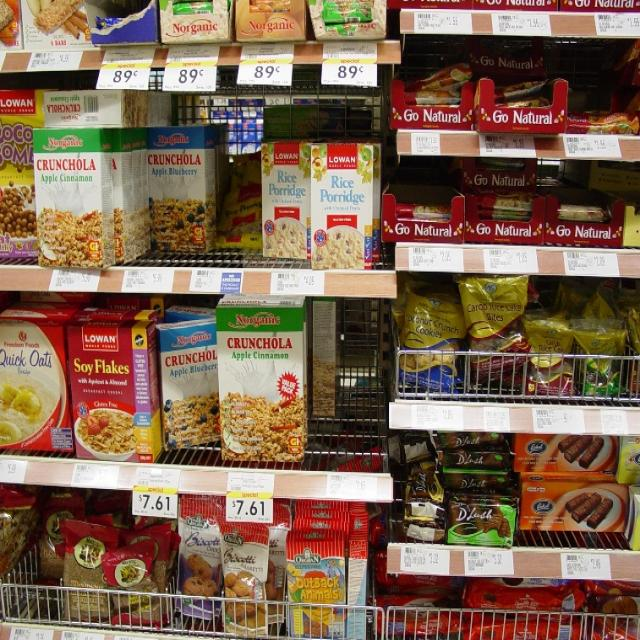q229: (309, 133, 376, 275), (260, 139, 314, 256)
